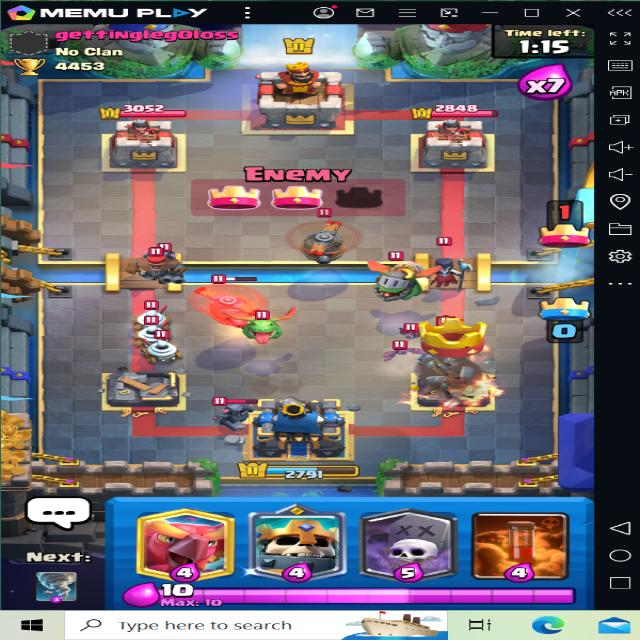baby-dragon: (230, 311, 298, 345)
bats: (384, 338, 415, 356), (395, 323, 427, 338)
flying-machine: (276, 205, 361, 269), (185, 275, 274, 330)
hunter: (131, 243, 193, 282)
inferno-dragon: (374, 254, 426, 306)
mini-pekka: (206, 394, 258, 424), (152, 243, 180, 257)
night-witch: (424, 249, 474, 292)
zappie: (148, 332, 185, 361), (131, 302, 171, 328), (133, 318, 168, 347)
